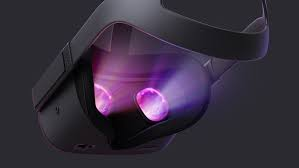oculus: (31, 40, 213, 157)
